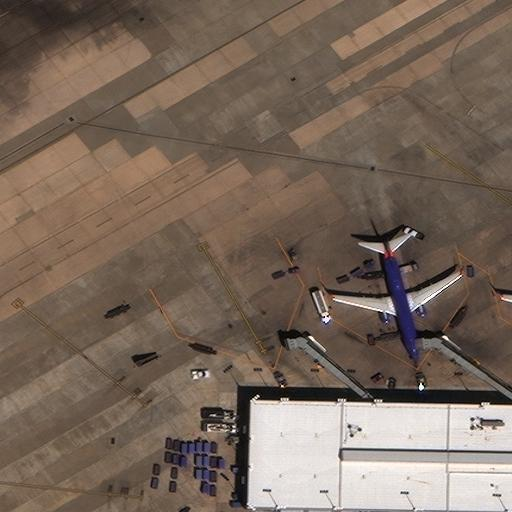Medium Civil Transport: (330, 236, 463, 362)
